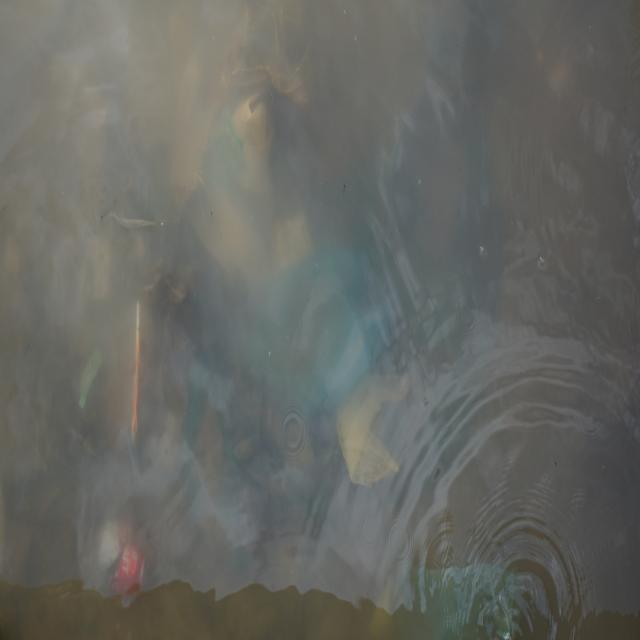Kantong Plastik: (276, 227, 408, 402)
